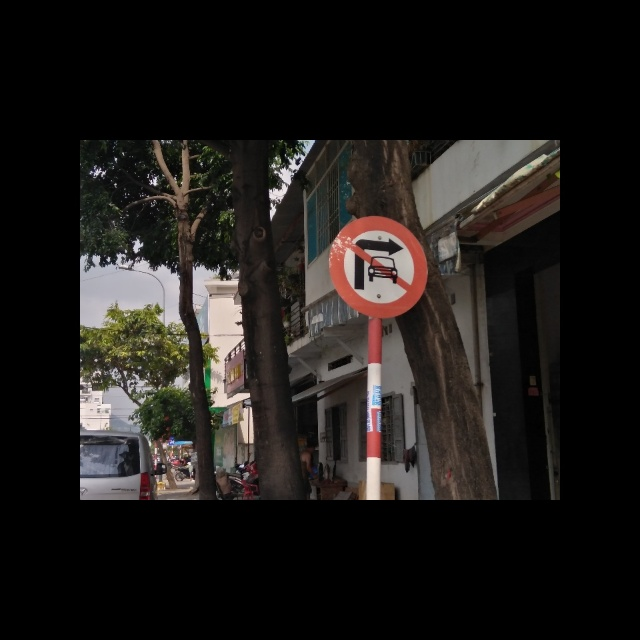Cấm xe ô tô rẽ trái: (325, 216, 428, 320)
